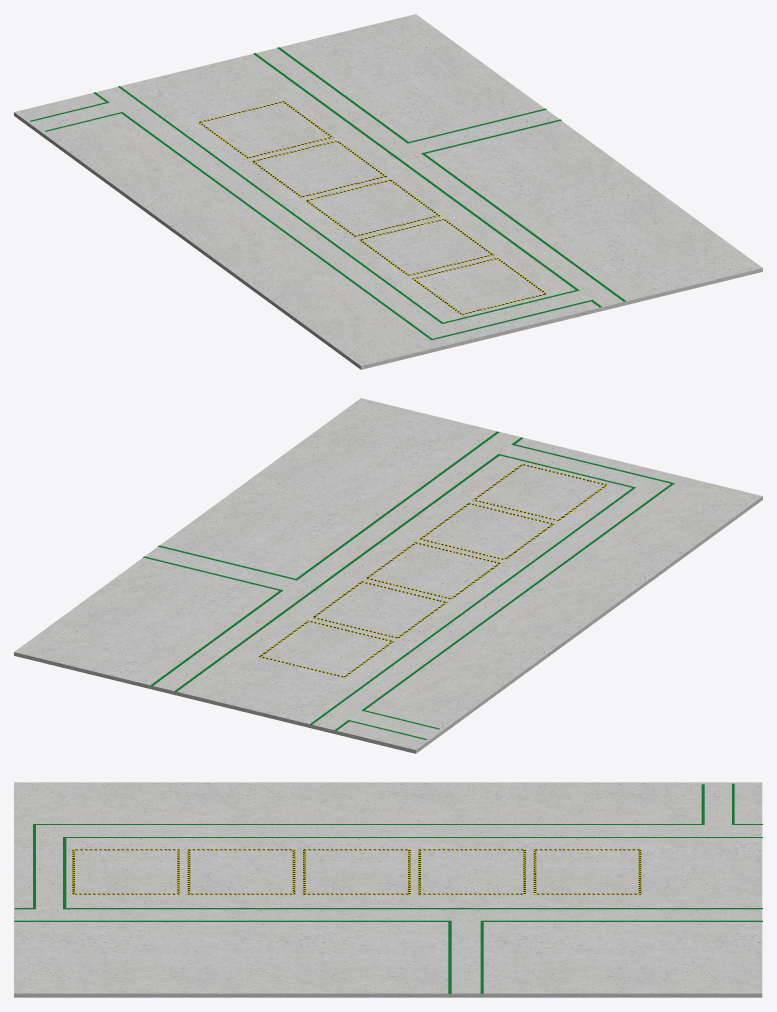
File: aws_robomaker_warehouse_GroundB_01_visual.DAE
3 views of the same model, one above another, from view 1: azimuth 30°, elevation 25°; view 2: azimuth 150°, elevation 25°; view 3: azimuth 270°, elevation 25° (orthographic). The views are drawn at different scales.
Visible parts, largest first — view 1: aws_robomaker_warehouse_GroundB_01_visual; view 2: aws_robomaker_warehouse_GroundB_01_visual; view 3: aws_robomaker_warehouse_GroundB_01_visual.
Boxes of the visible parts, x1,y1,x2,y2 form: aws_robomaker_warehouse_GroundB_01_visual: (14,14,762,369); aws_robomaker_warehouse_GroundB_01_visual: (14,398,762,753); aws_robomaker_warehouse_GroundB_01_visual: (14,782,762,997).
Bounding box in the file's own units: 1400 × 2092 × 12.45.
Materials: 2 (2 with a texture image).
